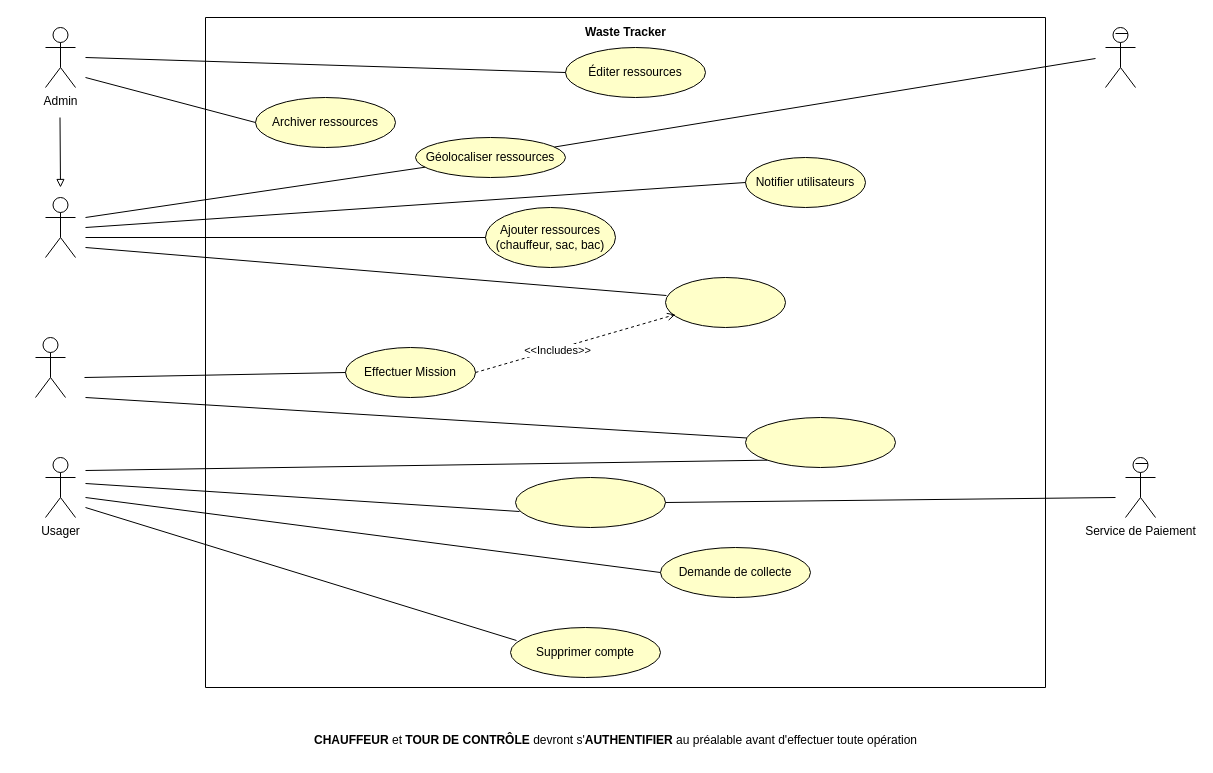
This 1213x773 diagram has some shape labels left out. The shapes that lost their labels are listed below. From the top down, each one's centre as x and y in pixels, then its label:
point 1120,57: Service de Géolocalisation
point 60,227: Tour de contrôle
point 725,302: Fournir mission
point 50,367: Chauffeur
point 820,442: Signaler un problème
point 590,502: Acheter déchet/ produits dérivés
